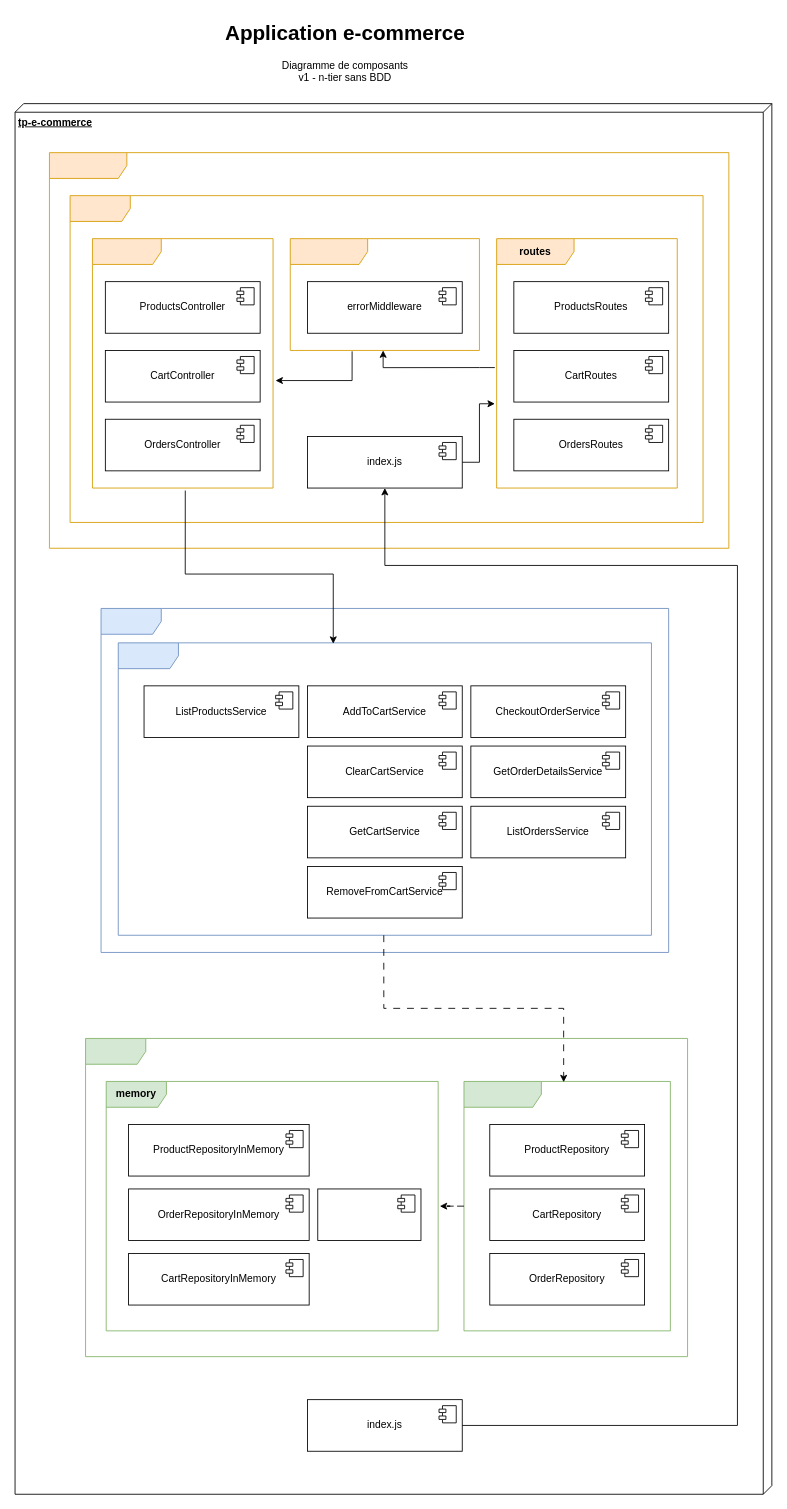
This 787x1509 diagram has some shape labels left out. The shapes that lost their labels are listed below. From the top down, each one's box as (x1, y1, x2, y2) in pixels, then its label:
(289, 238, 479, 350): middlewares
(92, 238, 273, 488): controllers
(69, 195, 703, 522): http
(49, 152, 729, 548): presentation
(117, 642, 651, 935): services
(100, 608, 669, 952): business
(317, 1188, 421, 1241): state
(85, 1038, 688, 1357): data
(463, 1081, 670, 1331): repositories
